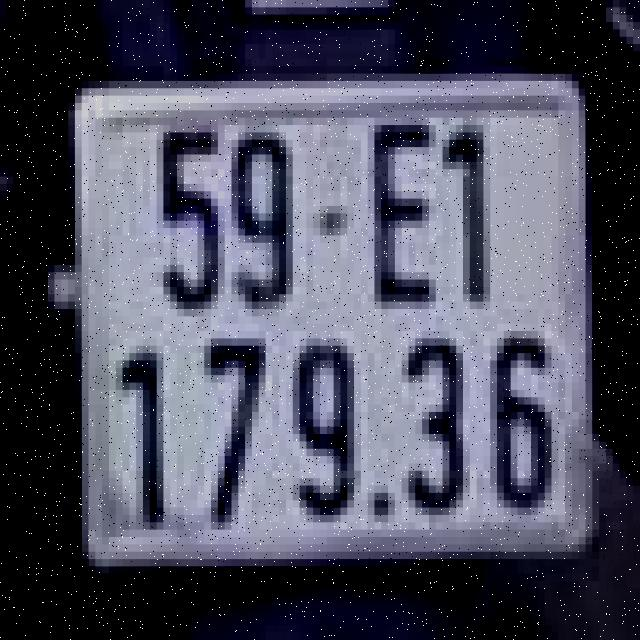1: (105, 331, 173, 544), (449, 122, 504, 306)
3: (385, 320, 473, 526)
5: (146, 118, 228, 316)
6: (487, 316, 562, 522)
7: (194, 331, 269, 537)
9: (279, 320, 368, 526), (228, 107, 310, 320)
E: (368, 114, 442, 320)
